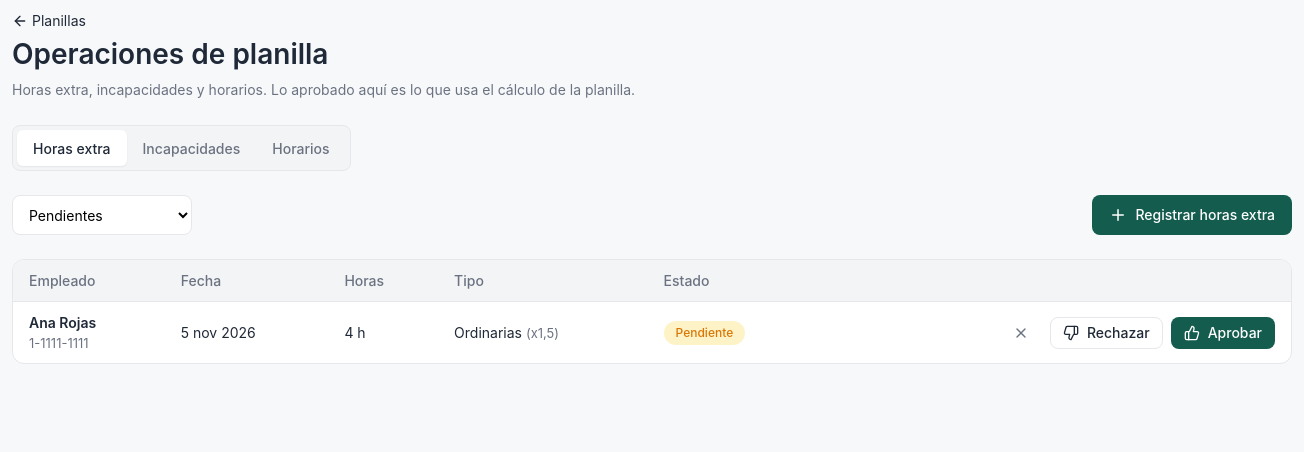
Test: PayrollOperationsPage › lists pending overtime and approves it with the row version
The width and height of the screenshot is (1304, 452).
Expected: the text "Ana Rojas" is shown, x1=29 y1=314 x2=96 y2=331
Expected: the text "Ordinarias" is shown, x1=454 y1=324 x2=522 y2=341
Click the button "Aprobar" at [1223, 333], box x1=1171 y1=317 x2=1275 y2=349
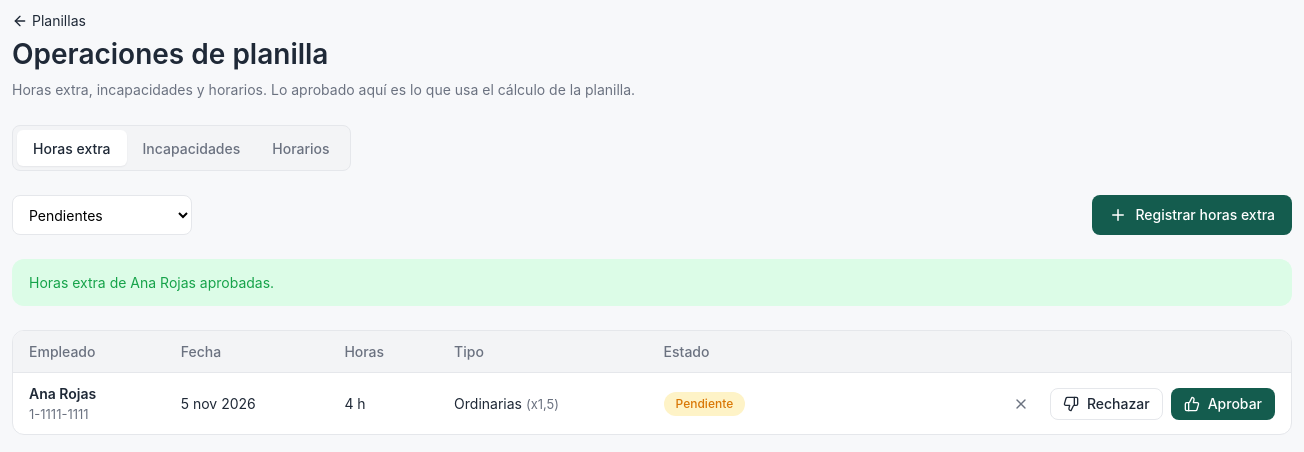
Now the text "Horas extra de Ana Rojas aprobadas." is shown, box x1=12 y1=259 x2=1292 y2=306
